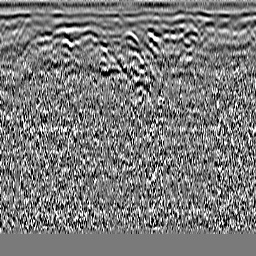cavity: (117, 28, 139, 50)
